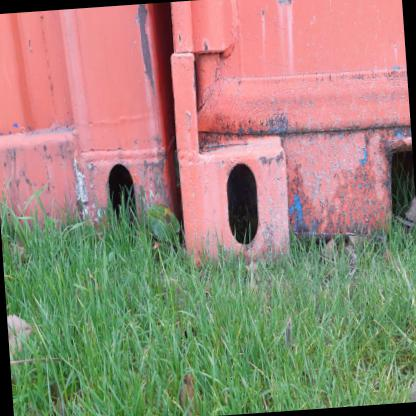CornerCasting: (166, 126, 298, 270), (69, 137, 183, 247)
